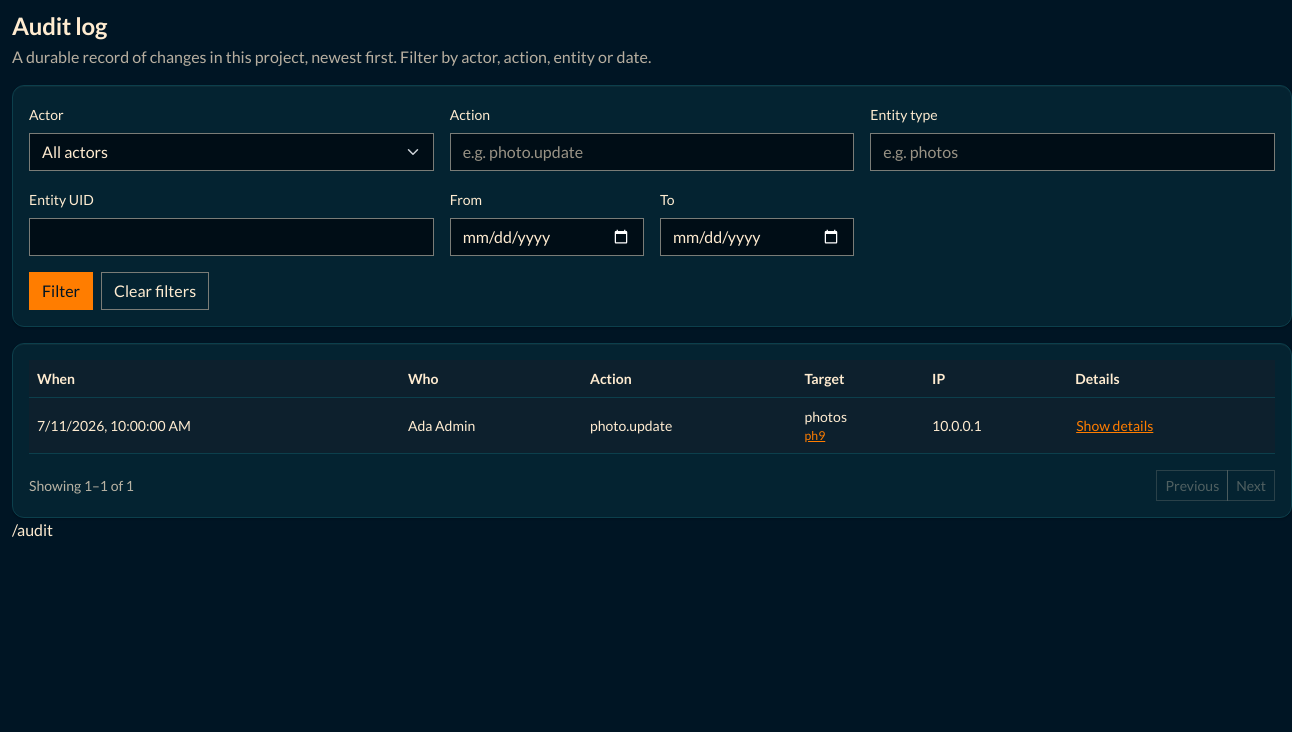
AuditPage › reveals the raw details payload when a row is expanded
Check: the table is shown, box [29, 360, 1275, 454]
Click the button "Show details".
click(1115, 426)  # box [1075, 414, 1154, 438]
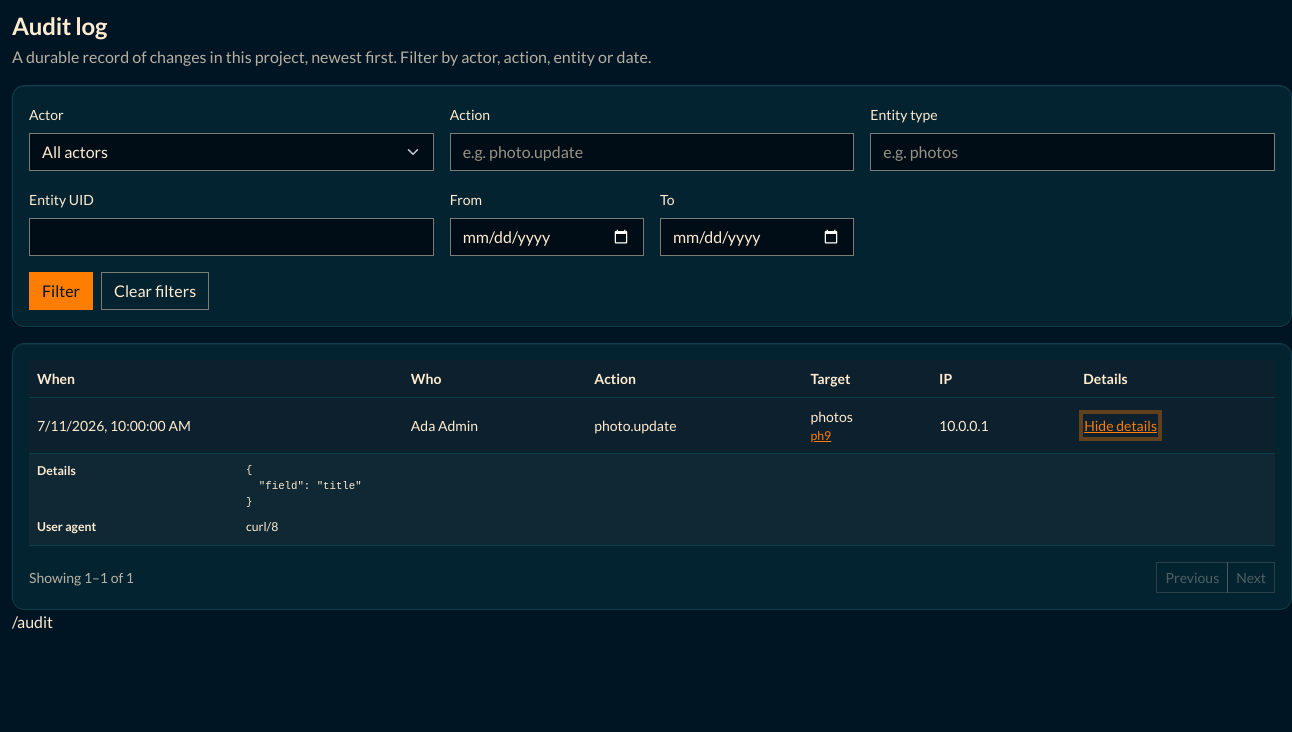
Check: the text "{ \"field\": \"title\" }" is shown, box [246, 464, 362, 508]
